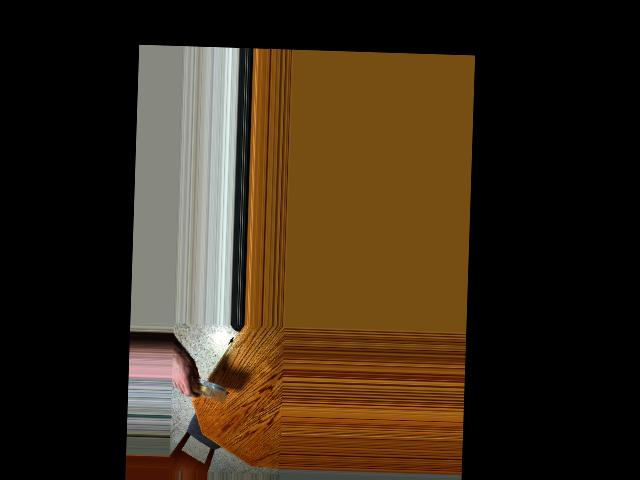cheese: (190, 376, 223, 405)
